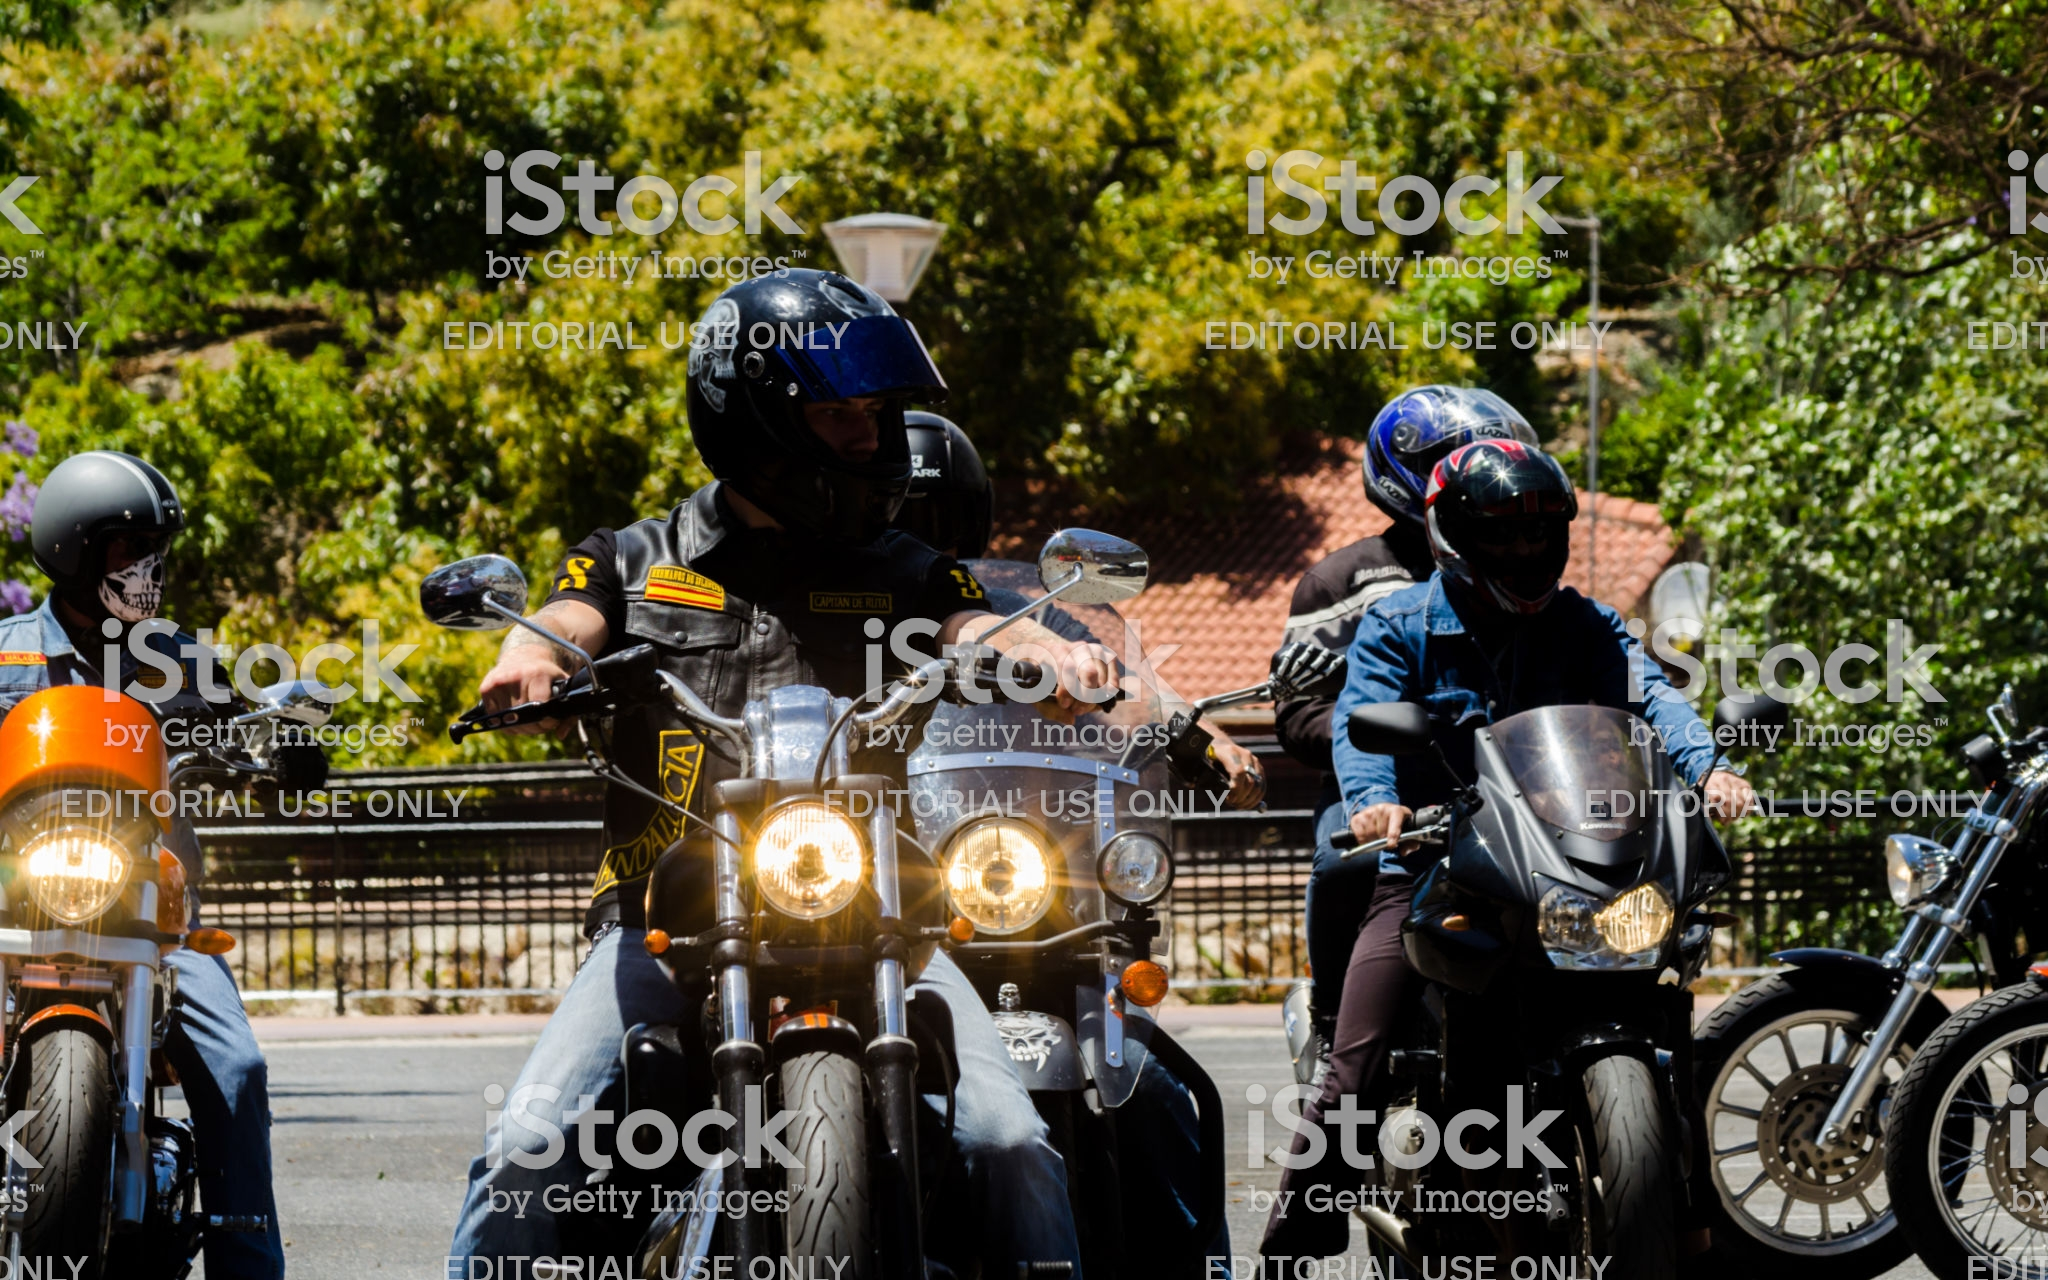helmet: (656, 273, 930, 526), (1432, 451, 1606, 619), (1352, 386, 1497, 518)
